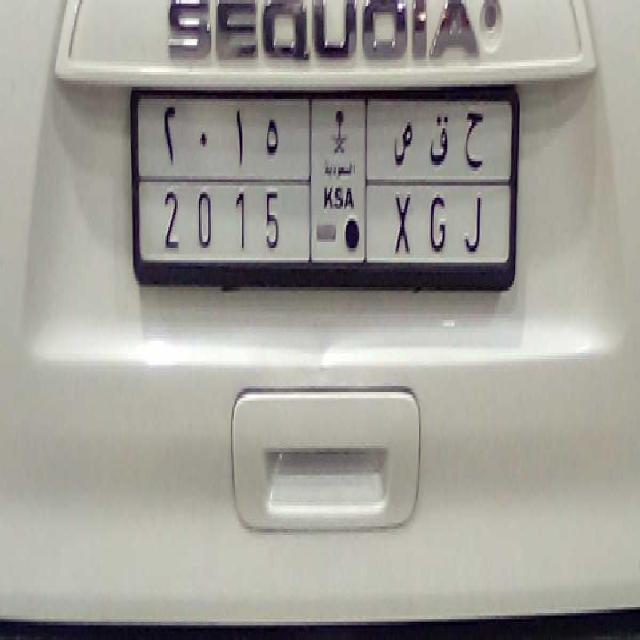license_plate: (139, 179, 505, 273)
